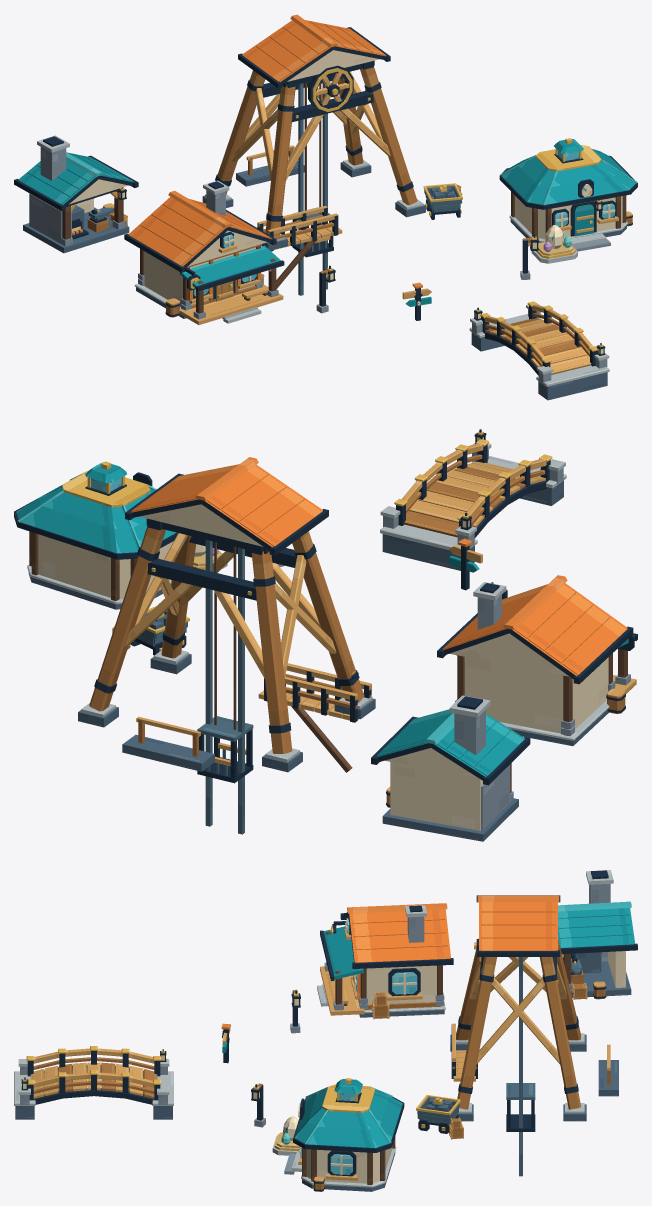
Rendered from architecture.glb.
The picture shows the model from 3 angles, top to bottom: view 1: azimuth 30°, elevation 25°; view 2: azimuth 150°, elevation 25°; view 3: azimuth 270°, elevation 25°; orthographic projection. The views are drawn at different scales.
Visible parts, largest first — view 1: Pet_ContinuousHip, Mine_MainLeg.001, Mine_MainLeg.003, Shop_Canopy, Mine_MainLeg, Shop_PlasterVolume, Shop_Porch, Forge_Foundation, Forge_WestMasonry, Pet_Plaster, Bridge_Masonry.001, Mine_Roof_Gable.001 (+25 smaller); view 2: Shop_PlasterVolume, Pet_ContinuousHip, Forge_BackWall, Mine_MainLeg, Pet_Plaster, Mine_MainLeg.002, Mine_MainLeg.001, Shop_Roof_Gable, Mine_CrossHeader, Mine_LiftGuide.001, Mine_Roof_Gable, Mine_RearLoadingFoot (+44 smaller); view 3: Pet_ContinuousHip, Mine_MainLeg.002, Mine_MainLeg.003, Shop_PlasterVolume, Pet_Plaster, Shop_Roof_BroadPanel.007, Shop_Canopy, Shop_Roof_BroadPanel.006, Shop_Roof_BroadPanel.005, Mine_Roof_BroadPanel.005, Mine_Roof_BroadPanel.006, Mine_Roof_BroadPanel.007 (+27 smaller).
Boxes of the visible parts, x1=… form: Pet_ContinuousHip: x1=502, y1=149, x2=635, y2=204; Mine_MainLeg.001: x1=265, y1=85, x2=295, y2=236; Mine_MainLeg.003: x1=360, y1=67, x2=417, y2=205; Shop_Canopy: x1=179, y1=245, x2=280, y2=288; Mine_MainLeg: x1=217, y1=70, x2=265, y2=194; Shop_PlasterVolume: x1=144, y1=247, x2=255, y2=307; Shop_Porch: x1=179, y1=284, x2=283, y2=324; Forge_Foundation: x1=23, y1=207, x2=129, y2=253; Forge_WestMasonry: x1=29, y1=193, x2=71, y2=243; Pet_Plaster: x1=515, y1=196, x2=622, y2=238; Bridge_Masonry.001: x1=538, y1=372, x2=607, y2=400; Mine_Roof_Gable.001: x1=287, y1=50, x2=379, y2=81; Shop_PlasterVolume: x1=464, y1=657, x2=608, y2=733; Pet_ContinuousHip: x1=16, y1=485, x2=176, y2=553; Forge_BackWall: x1=390, y1=762, x2=482, y2=830; Mine_MainLeg: x1=251, y1=551, x2=292, y2=753; Pet_Plaster: x1=38, y1=534, x2=173, y2=598; Mine_MainLeg.002: x1=89, y1=527, x2=165, y2=711; Mine_MainLeg.001: x1=292, y1=531, x2=364, y2=702; Shop_Roof_Gable: x1=449, y1=633, x2=568, y2=676; Mine_CrossHeader: x1=147, y1=558, x2=256, y2=600; Mine_LiftGuide.001: x1=205, y1=539, x2=212, y2=826; Mine_Roof_Gable: x1=139, y1=504, x2=263, y2=546; Mine_RearLoadingFoot: x1=122, y1=734, x2=214, y2=771; Pet_ContinuousHip: x1=294, y1=1089, x2=402, y2=1148; Mine_MainLeg.002: x1=539, y1=957, x2=580, y2=1109; Mine_MainLeg.003: x1=457, y1=957, x2=496, y2=1109; Shop_PlasterVolume: x1=366, y1=965, x2=436, y2=1004; Pet_Plaster: x1=306, y1=1146, x2=392, y2=1183; Shop_Roof_BroadPanel.007: x1=355, y1=946, x2=449, y2=962; Shop_Canopy: x1=323, y1=926, x2=364, y2=979; Shop_Roof_BroadPanel.006: x1=353, y1=933, x2=447, y2=949; Shop_Roof_BroadPanel.005: x1=352, y1=920, x2=446, y2=936; Mine_Roof_BroadPanel.005: x1=481, y1=912, x2=555, y2=925; Mine_Roof_BroadPanel.006: x1=481, y1=925, x2=555, y2=938; Mine_Roof_BroadPanel.007: x1=481, y1=938, x2=555, y2=950.
Size of the model in its own units: 46.98 by 24.78 by 51.46.
Materials: 1 (1 with a texture image).
